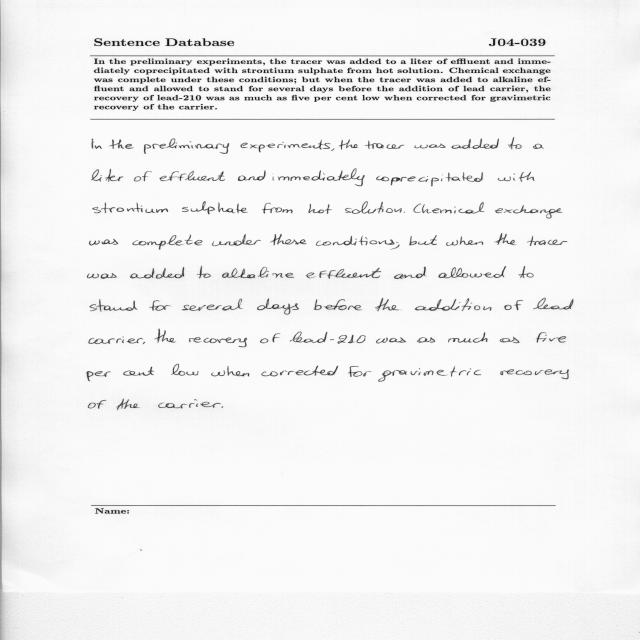word: (378, 366, 481, 382), (273, 169, 365, 186), (376, 172, 483, 186), (144, 138, 229, 154), (316, 236, 400, 250), (241, 140, 331, 153), (133, 234, 203, 250), (415, 298, 491, 311), (495, 205, 562, 219), (290, 332, 366, 344), (413, 202, 485, 214), (182, 202, 248, 215), (261, 366, 338, 377), (306, 268, 381, 279), (438, 266, 506, 278), (222, 267, 294, 278), (93, 203, 168, 213), (345, 201, 402, 214), (182, 299, 243, 311), (257, 298, 299, 315), (500, 369, 569, 379), (159, 171, 225, 181), (158, 399, 221, 409), (90, 299, 138, 312), (130, 267, 184, 278), (212, 234, 261, 246), (189, 337, 247, 347), (314, 299, 362, 310), (452, 138, 499, 149), (533, 298, 574, 309), (448, 332, 488, 343), (92, 169, 124, 182), (528, 236, 568, 246), (271, 234, 307, 245), (394, 267, 426, 279), (211, 366, 249, 376), (89, 337, 143, 344), (498, 172, 535, 182), (446, 236, 483, 246), (365, 140, 404, 149), (171, 364, 199, 376), (262, 203, 292, 214), (536, 332, 566, 343), (375, 298, 400, 311), (238, 170, 266, 181), (155, 329, 177, 343), (124, 367, 155, 376), (495, 233, 517, 245), (348, 366, 372, 377), (117, 399, 140, 410), (149, 300, 171, 311), (110, 139, 134, 149), (87, 371, 111, 381), (309, 204, 332, 214), (339, 139, 358, 150), (260, 333, 280, 343), (134, 171, 152, 182), (418, 235, 437, 245), (504, 300, 523, 310), (197, 266, 211, 279), (519, 266, 534, 278), (376, 338, 406, 344), (88, 273, 117, 279), (508, 138, 522, 150), (90, 239, 118, 245), (88, 400, 106, 409), (415, 144, 446, 149), (500, 337, 520, 343), (92, 138, 102, 149), (417, 337, 435, 343), (409, 236, 417, 245), (533, 144, 544, 149), (331, 148, 334, 151), (143, 342, 145, 344), (222, 406, 223, 408), (404, 212, 405, 213)
